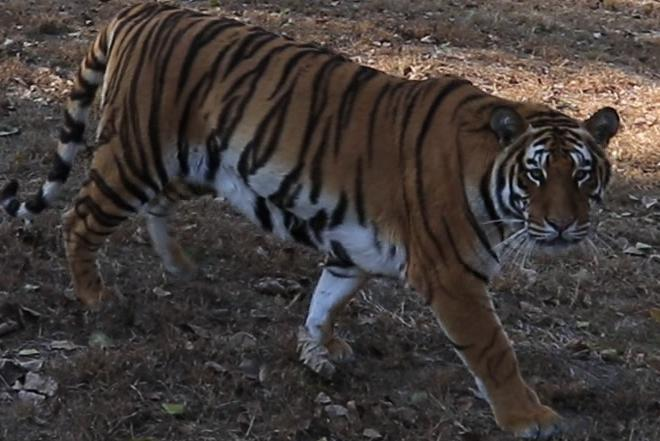tiger: (0, 3, 619, 437)
